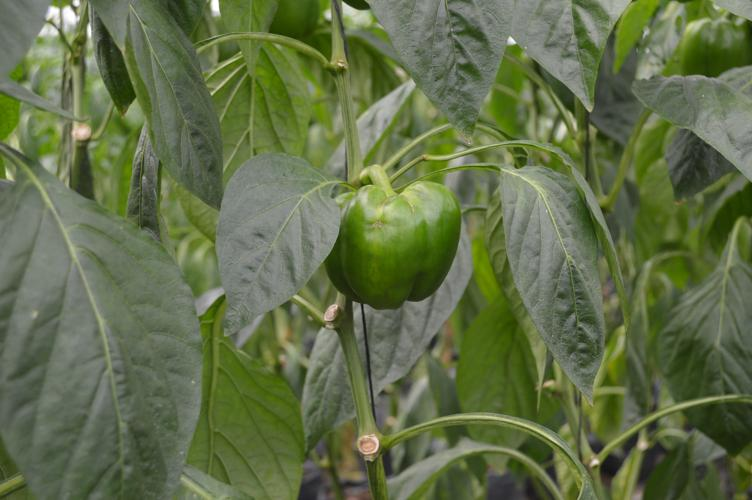BellPepper: (317, 182, 464, 311), (676, 16, 748, 82)
